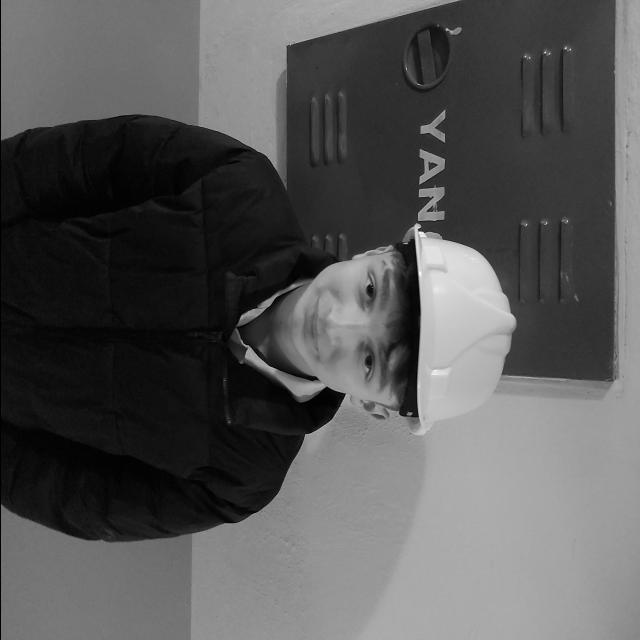safety_helmet: (410, 224, 516, 437)
